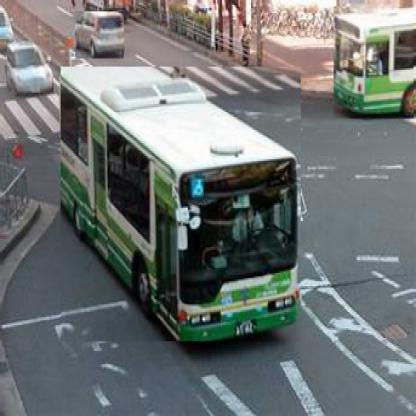bus: (60, 68, 302, 344), (333, 8, 415, 122)
car: (75, 13, 125, 62), (7, 43, 54, 95)
